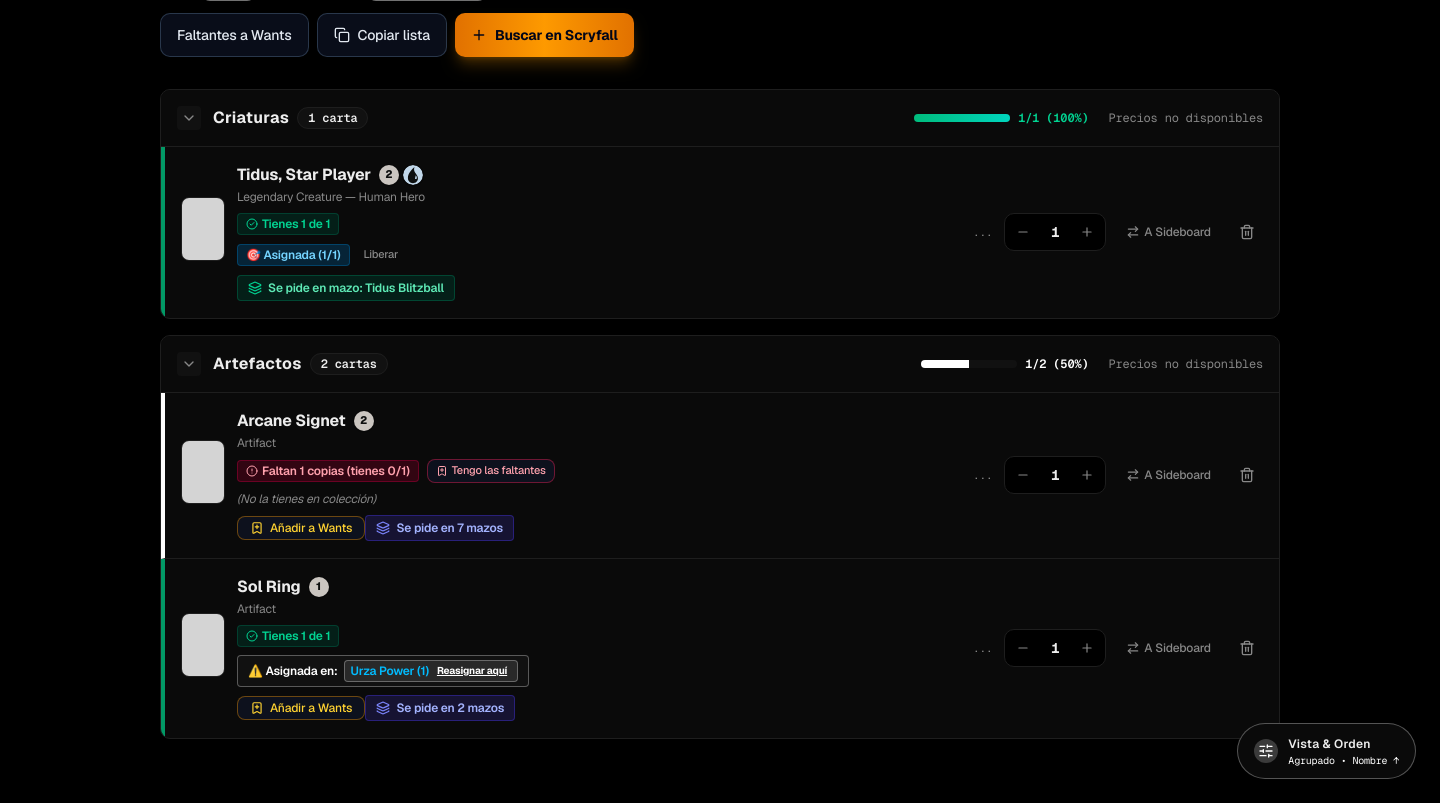
Test: DeckDetailView - Requested In Decks Metric (Missing Priority) › opens the requesting decks from Se pide en N mazos
(page scrolled)
Click the button "Se pide en 7 mazos". click: (440, 528)
box: [365, 514, 514, 540]
(page scrolled)
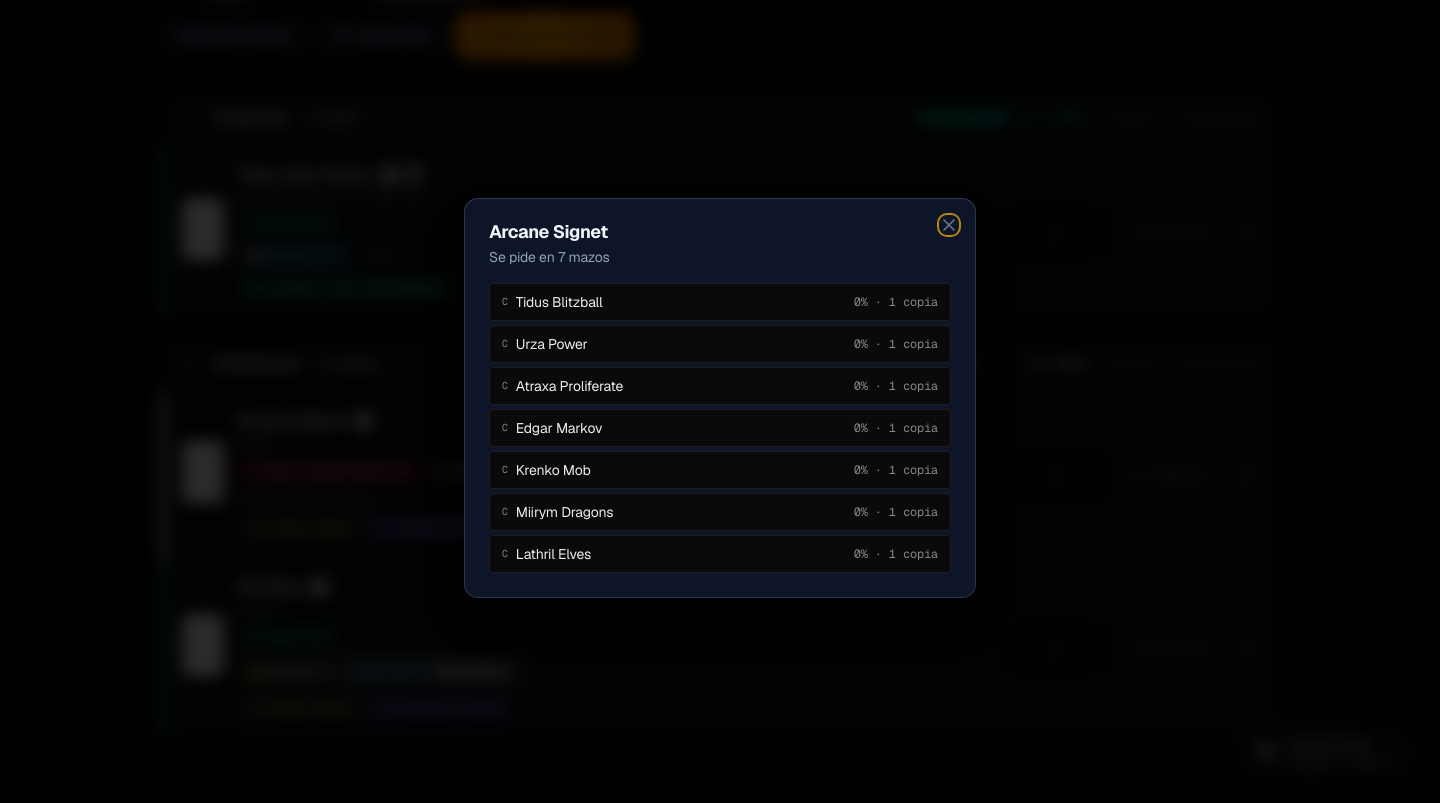
Check: the text "Atraxa Proliferate" is shown, box [516, 376, 623, 396]
Check: the text "Edgar Markov" is shown, box [516, 418, 602, 438]
